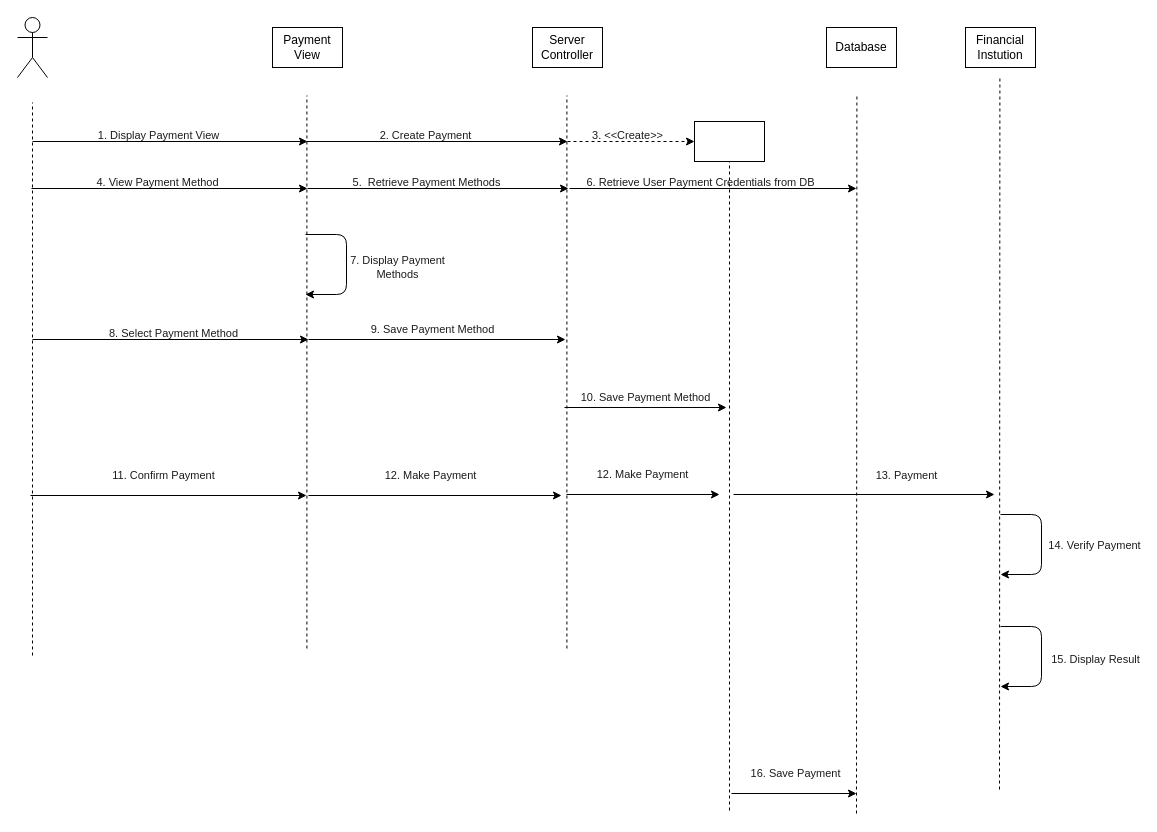
The diagram is 1157 pixels wide and 832 high, and some of its shapes have lost their labels. The centre of each missing label's shape, as x and y in pixels:
"Payment" belongs at (729,141).
"User" belongs at (32,47).
